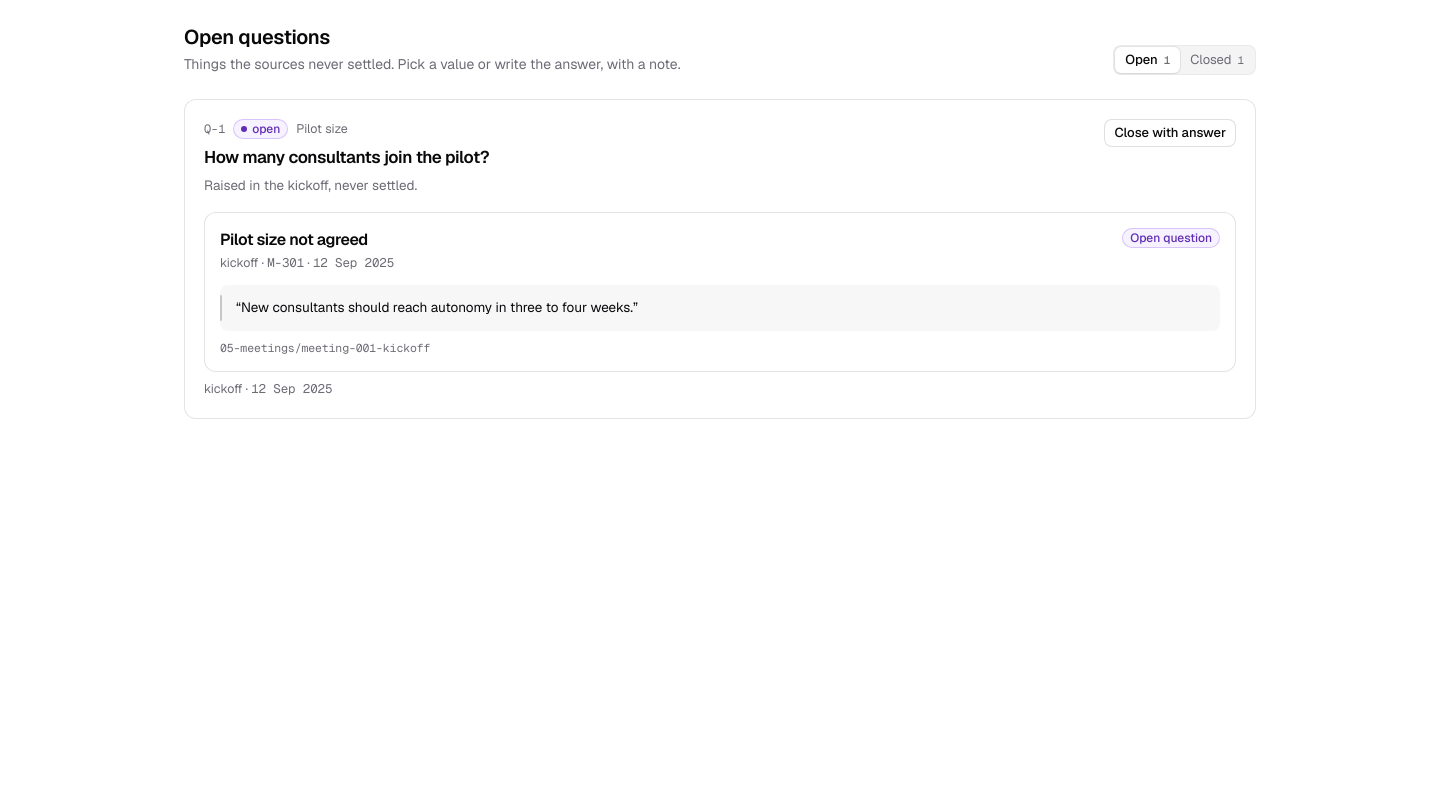
OpenQuestions › closing › offers the other active facts of the topic as the answer
Expected: the text "Q-1" is shown, [204,120,225,138]
Click the button "Close with answer" at (1170,133), box [1104,119,1236,147]
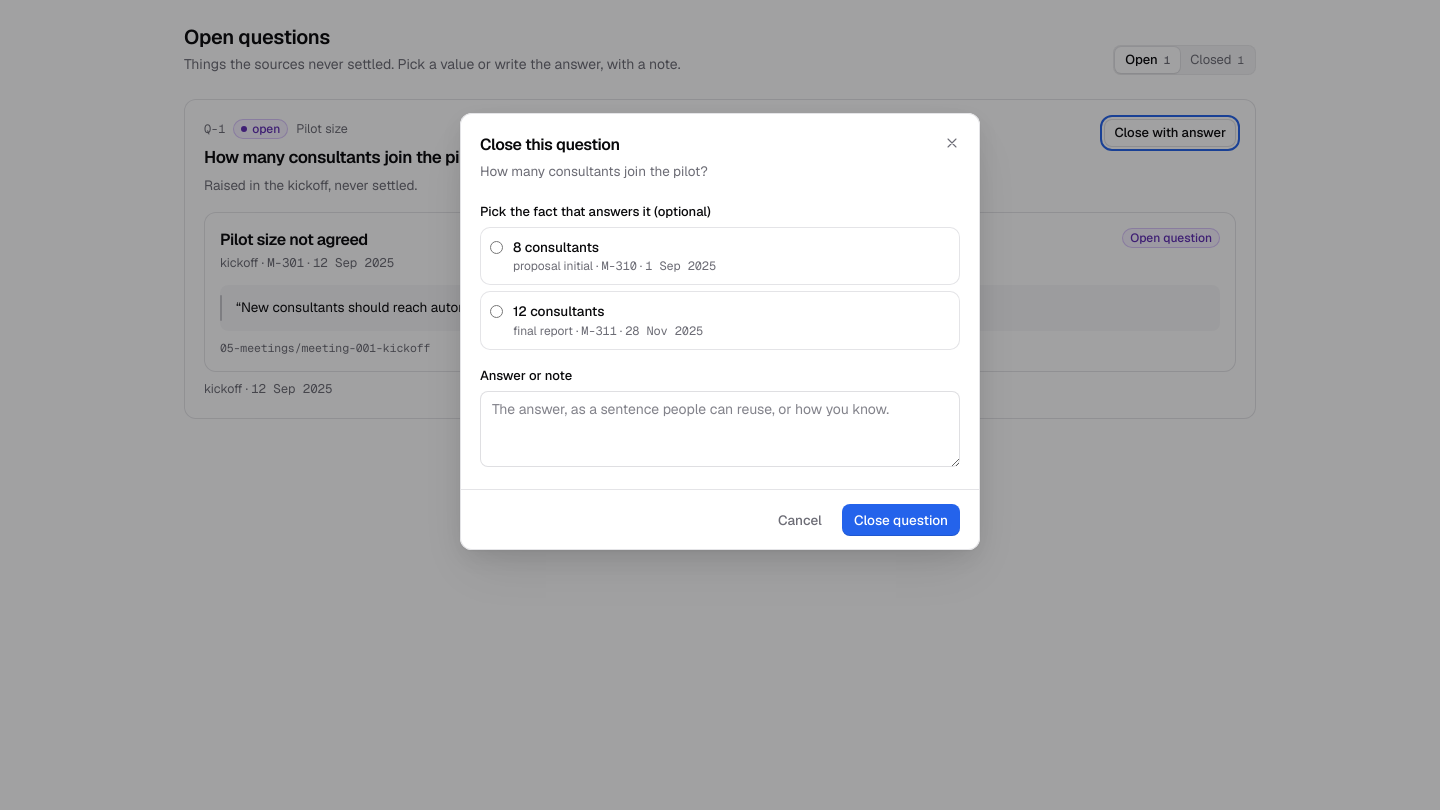
Now the heading "Close this question" is shown, box [480,134,620,155]
Now the text "How many consultants join the pilot?" is shown, box [480,162,708,180]
Now the radio button labelled "8 consultants proposal initial · M-310 · 1 Sep 2025" is not checked, box [490,241,503,254]
